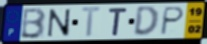B: (19, 7, 47, 40)
D: (133, 6, 161, 38)
N: (47, 8, 72, 38)
P: (159, 6, 186, 37)
T: (80, 6, 104, 39), (107, 7, 129, 37)
